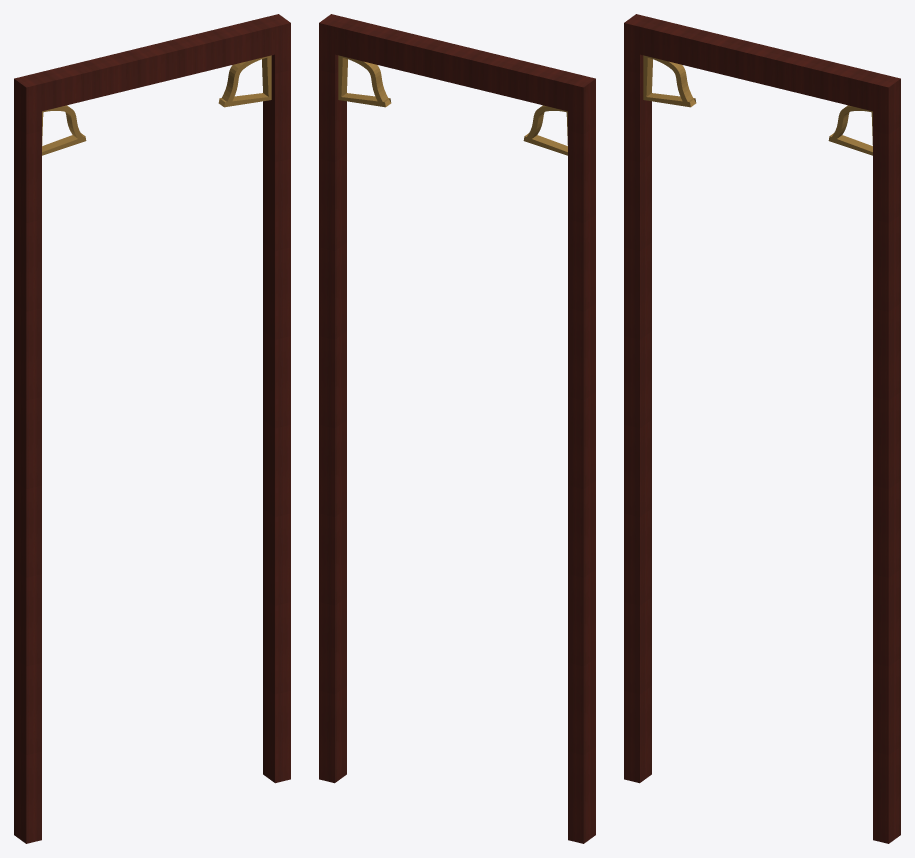
Rendered from shamen-v1.glb.
3 renders of one model, left to right at view 1: azimuth 30°, elevation 25°; view 2: azimuth 150°, elevation 25°; view 3: azimuth 330°, elevation 25°, orthographic.
Parts seen in each view (by area): view 1: shamen, shamen_gold; view 2: shamen, shamen_gold; view 3: shamen, shamen_gold.
Boxes of the visible parts, x1,y1,x2,y2 form: shamen: [14, 14, 290, 843]; shamen_gold: [42, 55, 271, 155]; shamen: [319, 14, 595, 843]; shamen_gold: [338, 55, 567, 155]; shamen: [624, 14, 900, 843]; shamen_gold: [643, 55, 872, 155].
Size of the model in its own units: 1 by 2.73 by 0.08.
2 materials, 1 textured.
